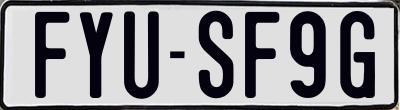9: (290, 8, 330, 97)
F: (243, 9, 281, 97), (32, 12, 70, 99)
G: (338, 11, 377, 101)
S: (196, 10, 237, 99)
U: (124, 9, 165, 101)
Y: (78, 11, 116, 102)
